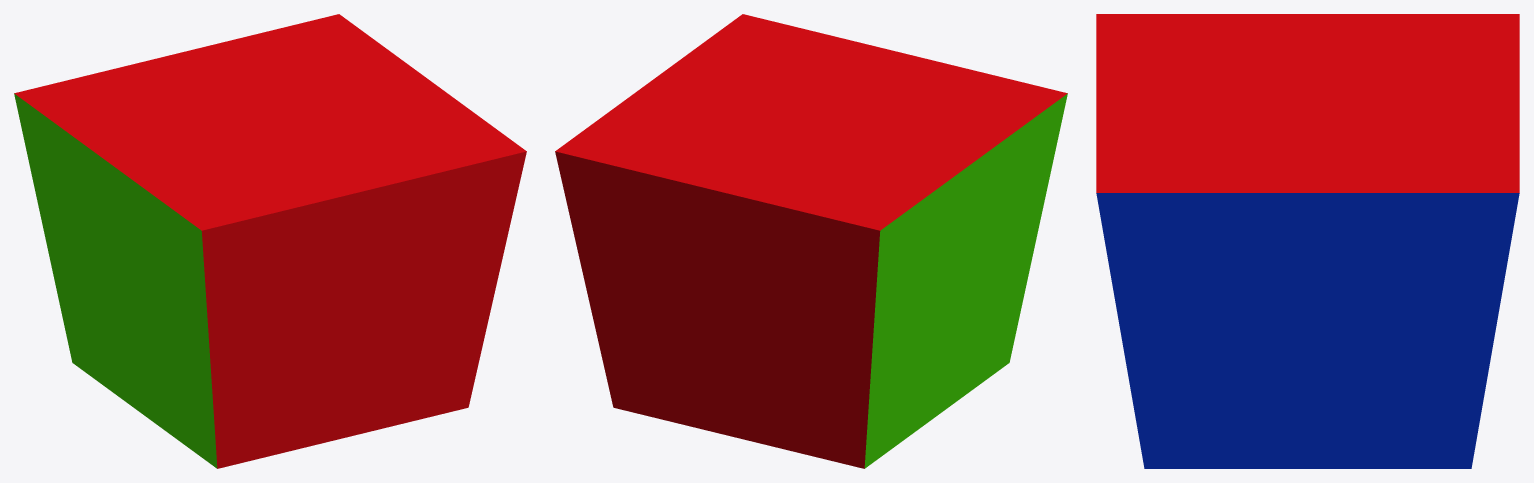
3 views of the same model, side by side, from view 1: azimuth 30°, elevation 25°; view 2: azimuth 150°, elevation 25°; view 3: azimuth 270°, elevation 25° (orthographic). The views are drawn at different scales.
Visible parts, largest first — view 1: Cube; view 2: Cube; view 3: Cube.
Boxes of the visible parts, x1,y1,x2,y2 form: Cube: (14, 14, 526, 468); Cube: (555, 14, 1067, 468); Cube: (1096, 14, 1519, 468).
Size of the model in its own units: 259 by 200 by 259.
